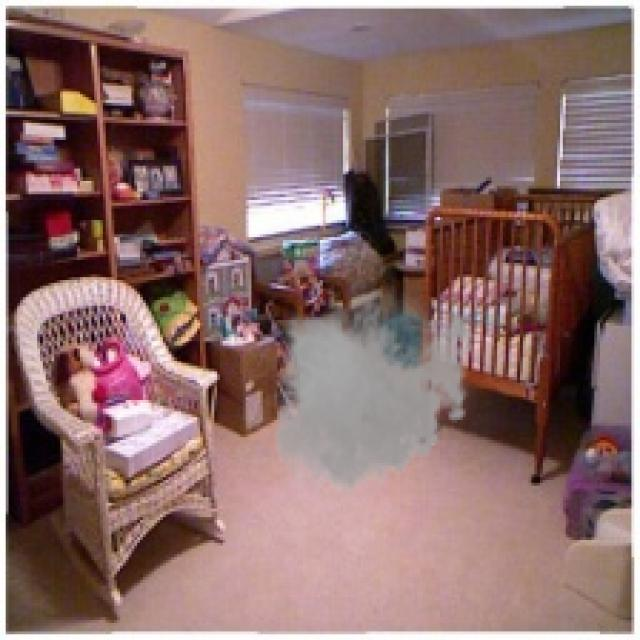smoke: (266, 277, 480, 503)
